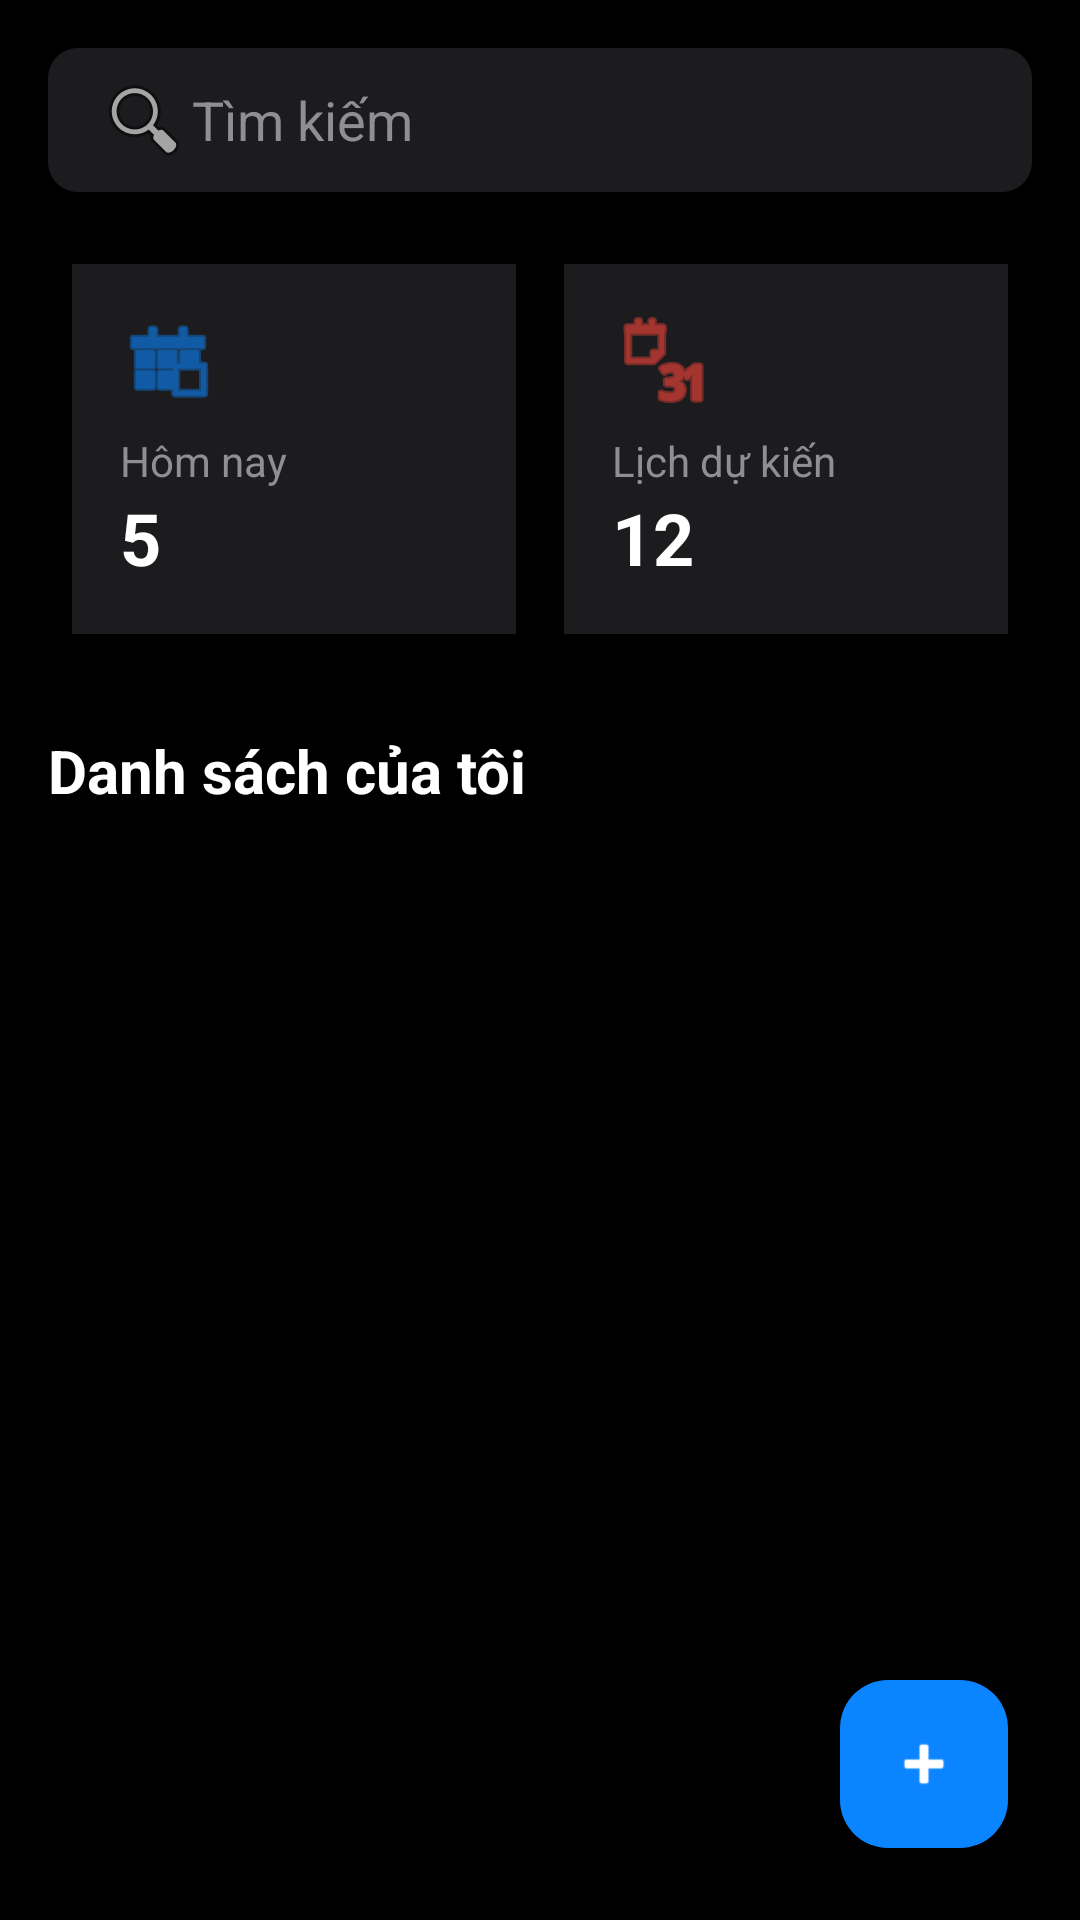

Named icons in this screenshot (1080px x 1920px) and their centers, point (x, y):
add: point (924, 1764)
month: point (663, 360)
today: point (169, 361)
